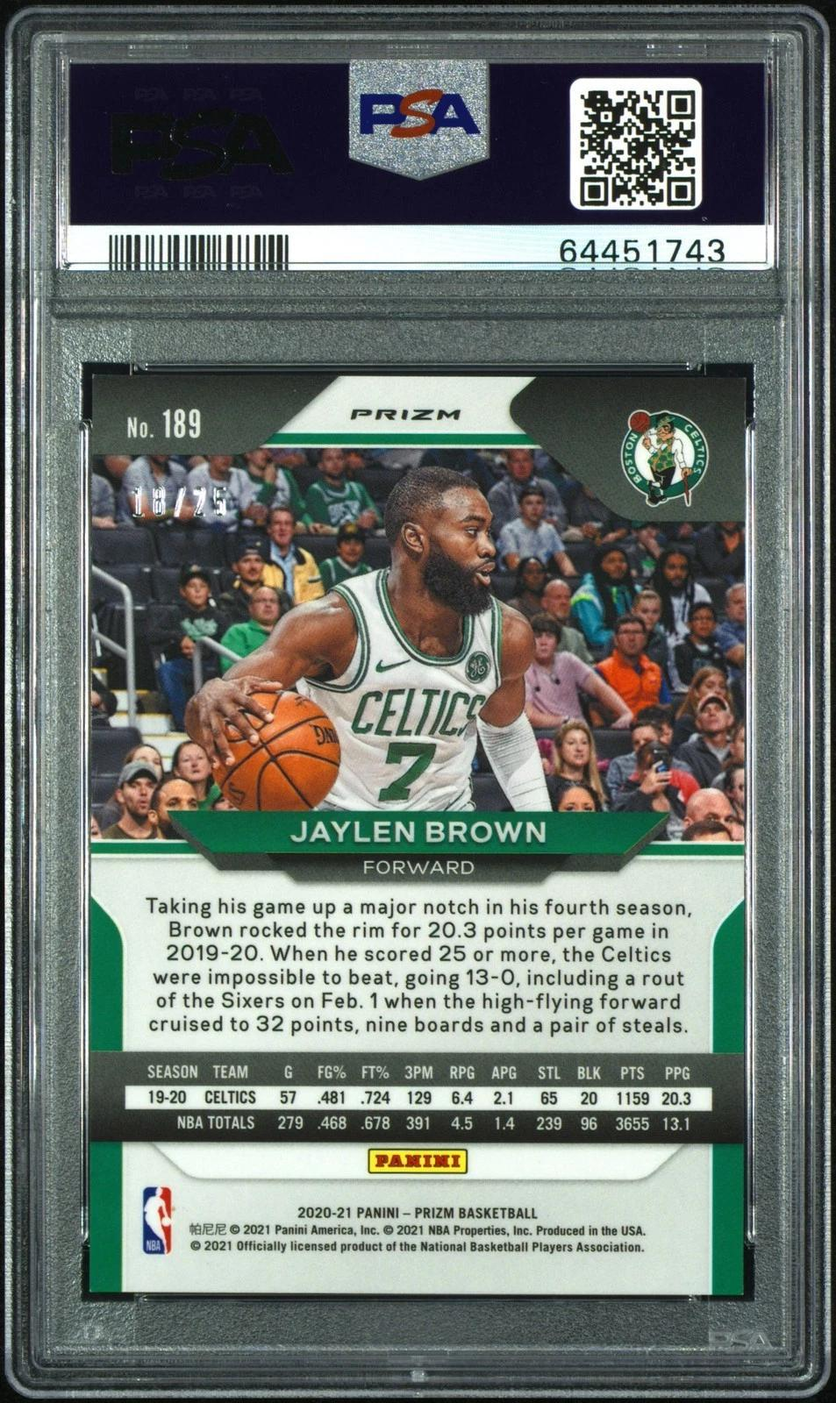card-2UtV: (88, 373, 748, 1296)
